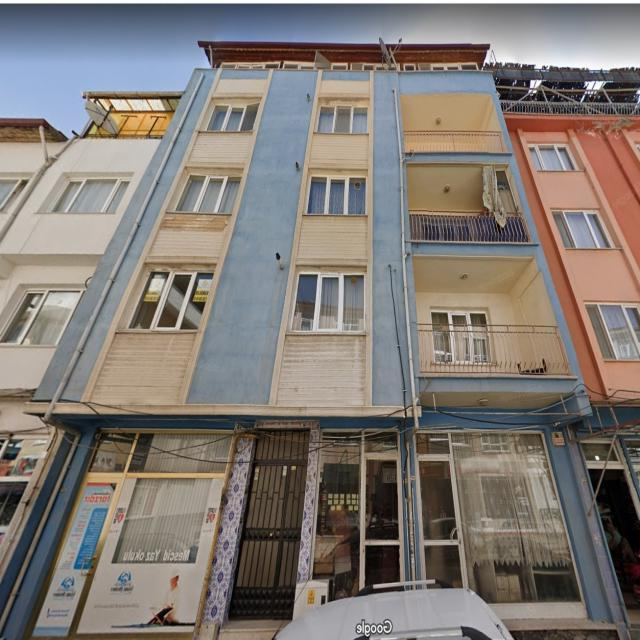Building: (0, 39, 631, 640)
